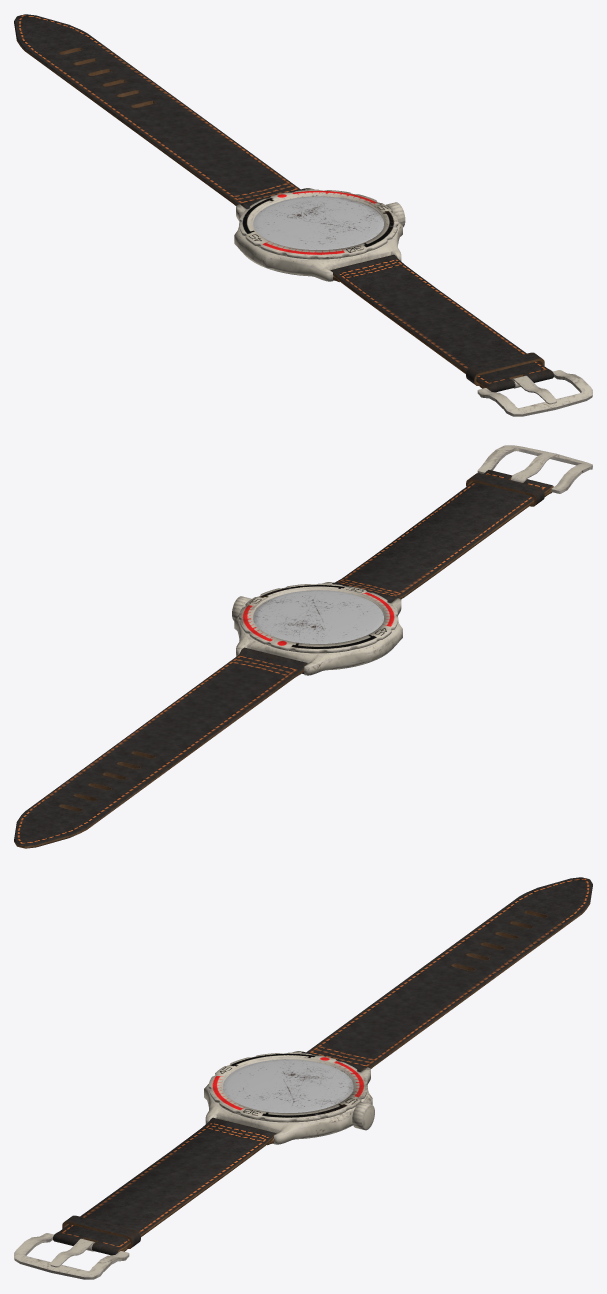
The model's file is WristWatches_anim.fbx.
3 renders of one model, top to bottom at view 1: azimuth 30°, elevation 25°; view 2: azimuth 150°, elevation 25°; view 3: azimuth 330°, elevation 25°, orthographic.
Visible parts, largest first — view 1: Strip00_anim_low, Strip01_anim_low, Body_anim_low, Glass_anim_low, Locker_anim_low, Booba_anim_low; view 2: Strip00_anim_low, Strip01_anim_low, Body_anim_low, Glass_anim_low, Locker_anim_low, Booba_anim_low; view 3: Strip00_anim_low, Strip01_anim_low, Body_anim_low, Glass_anim_low, Locker_anim_low, Booba_anim_low.
Boxes of the visible parts, bbox=[...] form: Strip00_anim_low: bbox=[14, 14, 305, 208]; Strip01_anim_low: bbox=[330, 254, 553, 392]; Body_anim_low: bbox=[234, 188, 405, 281]; Glass_anim_low: bbox=[253, 196, 383, 249]; Locker_anim_low: bbox=[477, 370, 592, 416]; Booba_anim_low: bbox=[466, 352, 544, 385]; Strip00_anim_low: bbox=[14, 647, 307, 848]; Strip01_anim_low: bbox=[332, 470, 553, 602]; Body_anim_low: bbox=[232, 582, 402, 675]; Glass_anim_low: bbox=[253, 590, 383, 643]; Locker_anim_low: bbox=[477, 445, 592, 493]; Booba_anim_low: bbox=[466, 473, 544, 506]; Strip00_anim_low: bbox=[301, 877, 592, 1071]; Strip01_anim_low: bbox=[53, 1117, 276, 1255]; Body_anim_low: bbox=[204, 1051, 374, 1144]; Glass_anim_low: bbox=[223, 1059, 353, 1112]; Locker_anim_low: bbox=[14, 1233, 129, 1279]; Booba_anim_low: bbox=[62, 1215, 140, 1248].
Bounding box in the file's own units: 321 × 50.53 × 1972.
